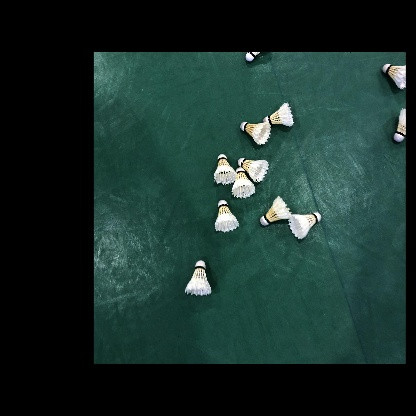ball_single: (185, 260, 212, 296), (260, 196, 292, 226), (287, 212, 321, 239), (214, 200, 239, 233), (231, 167, 256, 199), (238, 158, 269, 183), (263, 102, 294, 127), (214, 154, 237, 185), (240, 122, 271, 145), (382, 64, 406, 89), (393, 108, 406, 142), (245, 52, 260, 62)
